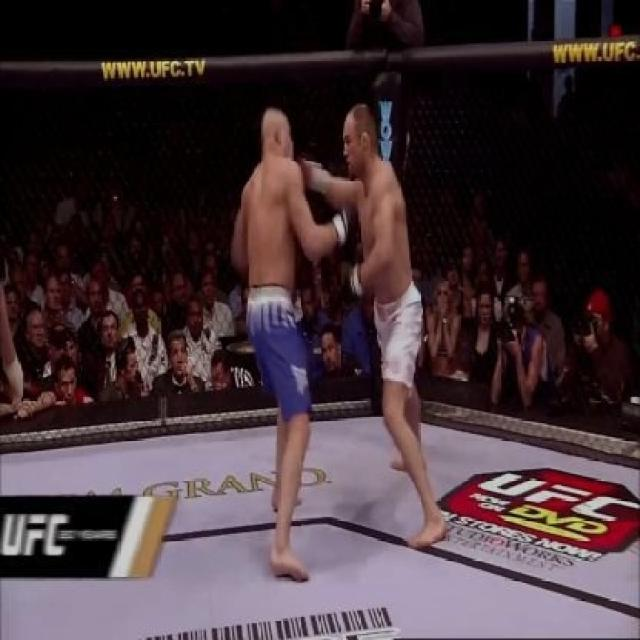fight: (225, 83, 448, 588)
